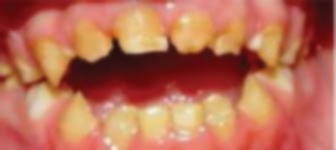Tooth Discoloration: (16, 7, 281, 87)
